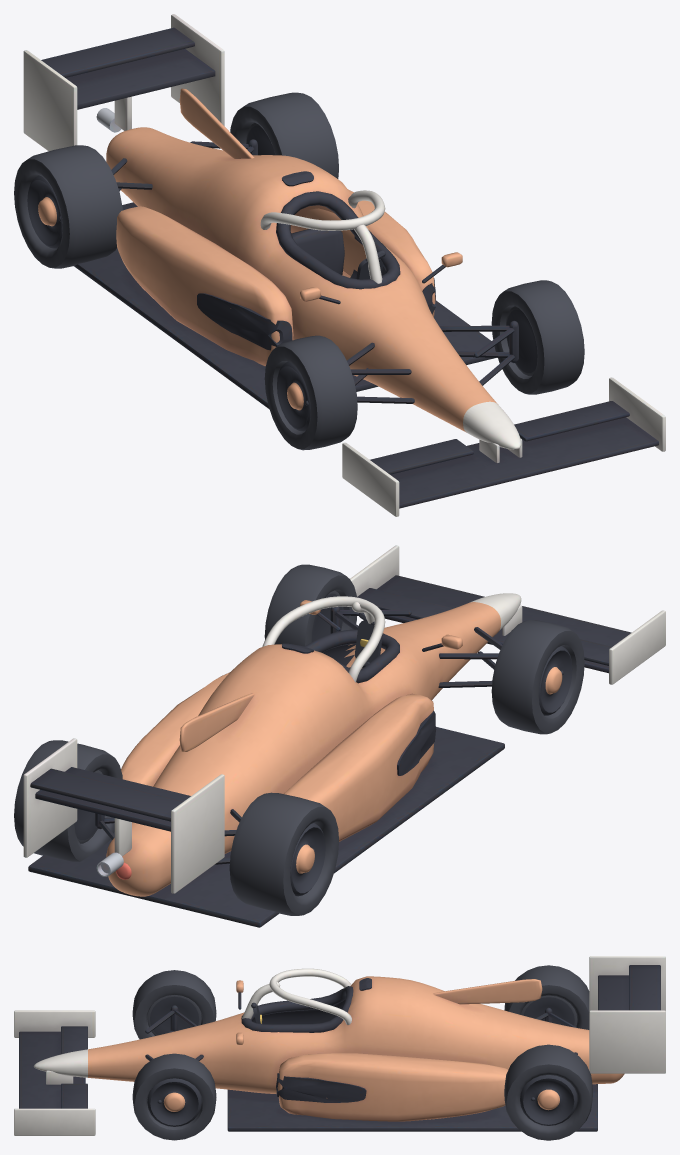
The model's file is race-car.glb.
3 views of the same model, one above another, from view 1: azimuth 30°, elevation 25°; view 2: azimuth 150°, elevation 25°; view 3: azimuth 270°, elevation 25° (orthographic). The views are drawn at different scales.
Visible parts, largest first — view 1: race-car_body, race-car_wheel_rear_r, race-car_wheel_front_r, race-car_wheel_front_l, race-car_wheel_rear_l; view 2: race-car_body, race-car_wheel_rear_r, race-car_wheel_front_r, race-car_wheel_front_l, race-car_wheel_rear_l, race-car_steering_wheel; view 3: race-car_body, race-car_wheel_rear_l, race-car_wheel_front_l, race-car_wheel_front_r, race-car_wheel_rear_r.
Part boxes in pixels (x1,y1,x2,y2): race-car_body: (23,14,665,516); race-car_wheel_rear_r: (14,145,122,268); race-car_wheel_front_r: (264,335,357,450); race-car_wheel_front_l: (491,280,584,394); race-car_wheel_rear_l: (230,92,338,178); race-car_body: (23,545,665,927); race-car_wheel_rear_r: (229,792,338,915); race-car_wheel_front_r: (491,620,584,734); race-car_wheel_front_l: (264,564,356,646); race-car_wheel_rear_l: (14,740,122,861); race-car_steering_wheel: (355,612,382,668); race-car_body: (14,956,665,1135); race-car_wheel_rear_l: (504,1044,592,1140); race-car_wheel_front_l: (132,1053,216,1140); race-car_wheel_front_r: (132,970,216,1039); race-car_wheel_rear_r: (504,965,589,1029).
Size of the model in its own units: 1.92 by 1.02 by 5.28.
20 materials, 1 textured.
